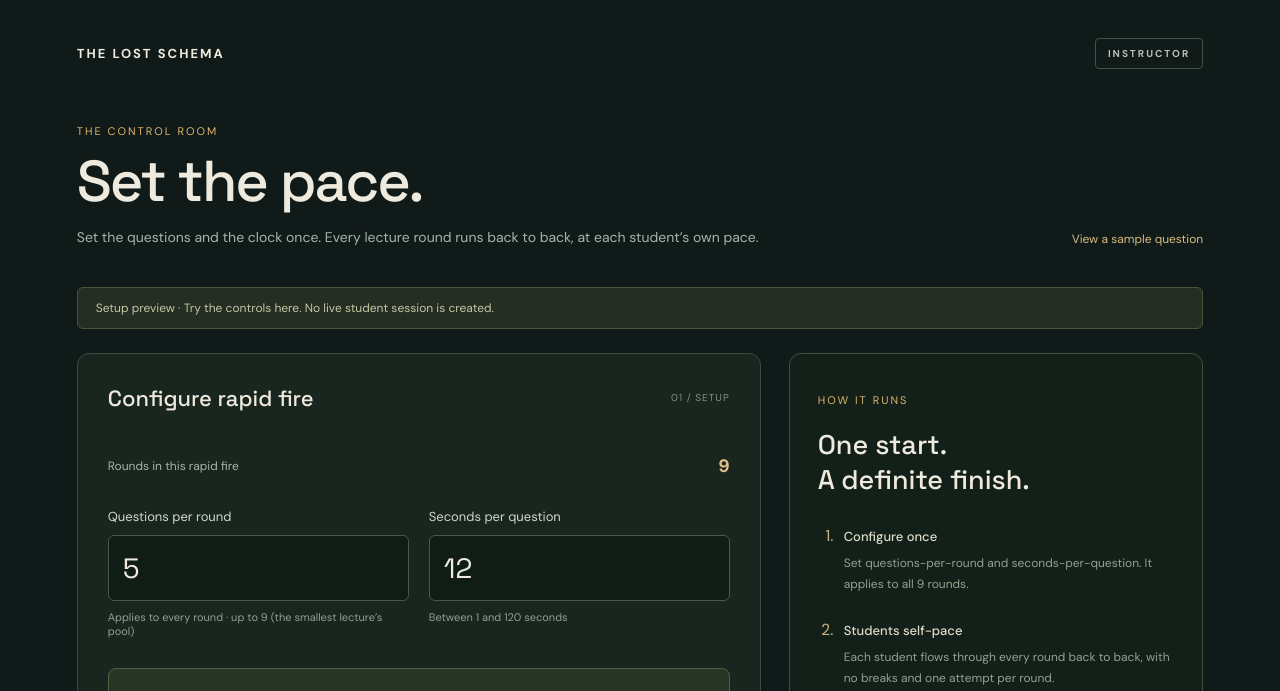
Test: Instructor setup preview › recomputes the per-round duration for custom settings
This screenshot has width=1280, height=691.
Replace the text in the number field labelled "Questions per round" with "8": (258, 568) [108,535,409,601]
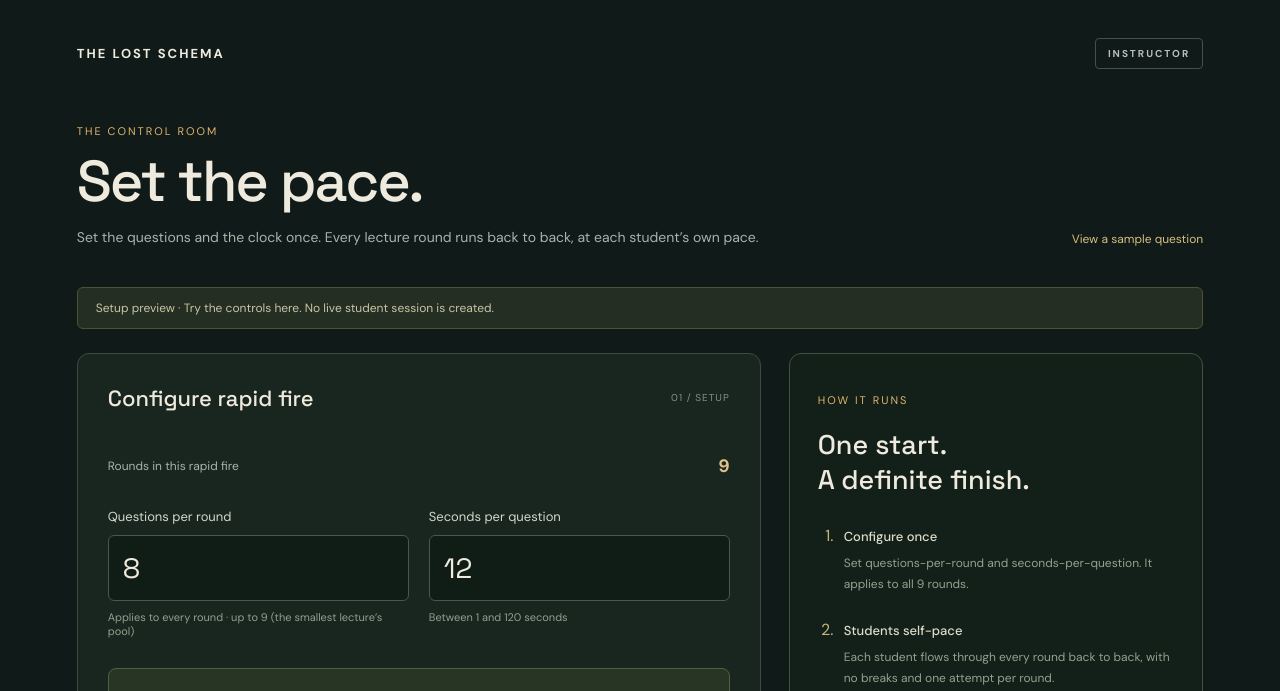
Replace the text in the number field labelled "Seconds per question" with "15": (579, 568) [429,535,730,601]
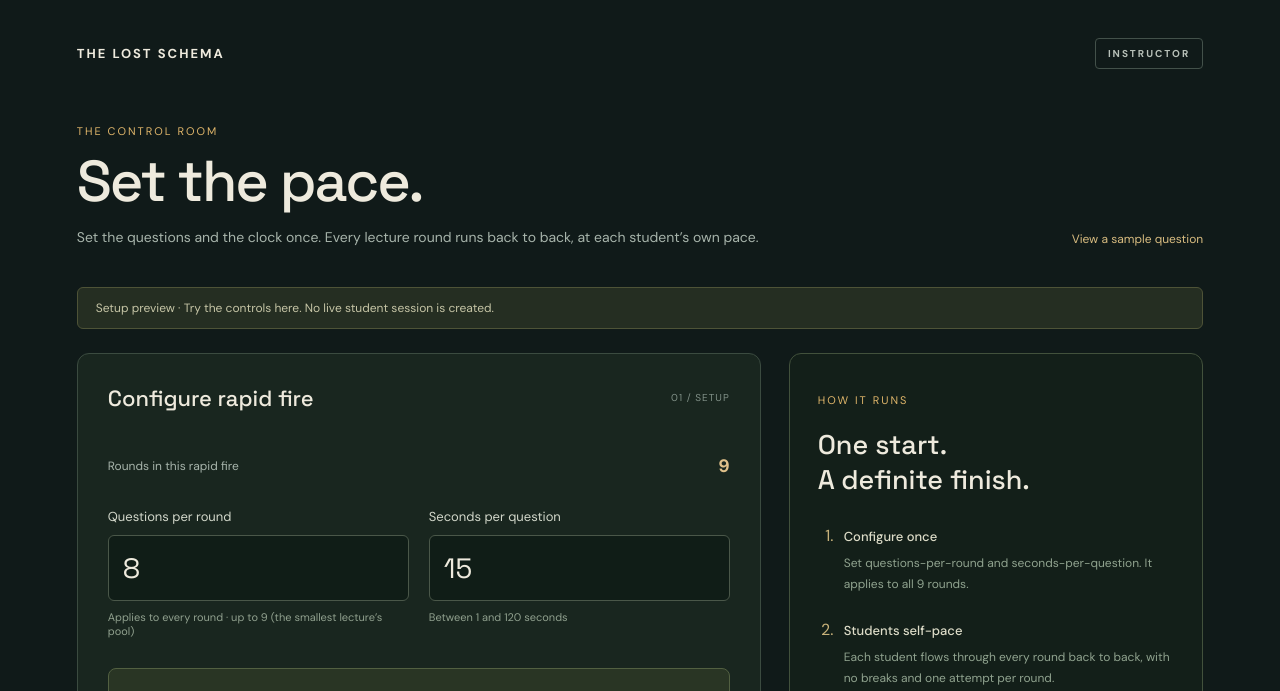
Replace the text in the number field labelled "Seconds per question" with "20": (579, 568) [429,535,730,601]
(page scrolled)
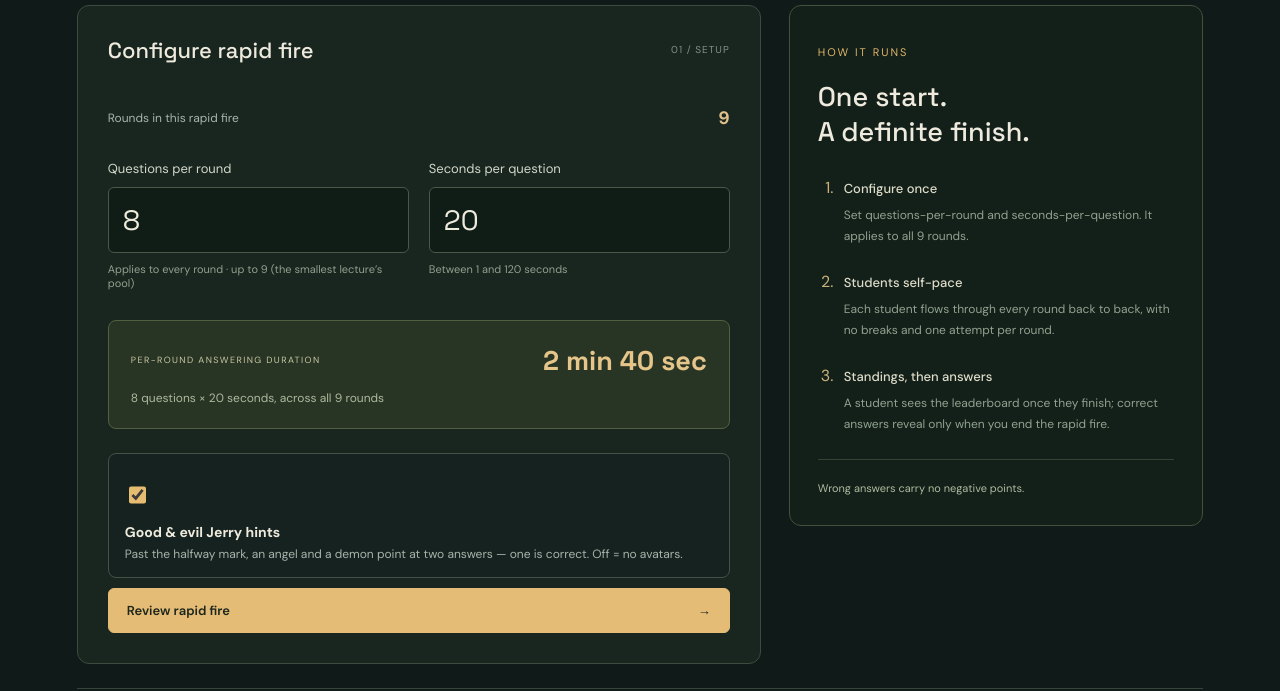
expect the text "2 min 40 sec" is shown: met, box [543,343,707,378]
